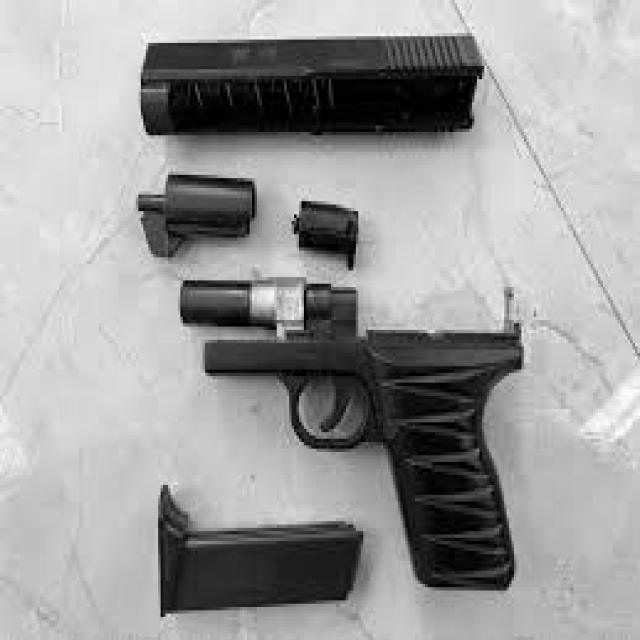gun: (178, 274, 524, 590)
